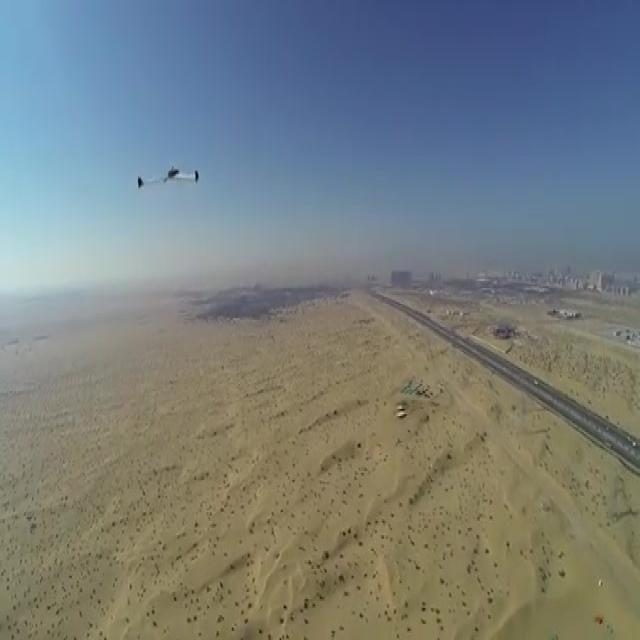iha: (138, 164, 199, 189)
